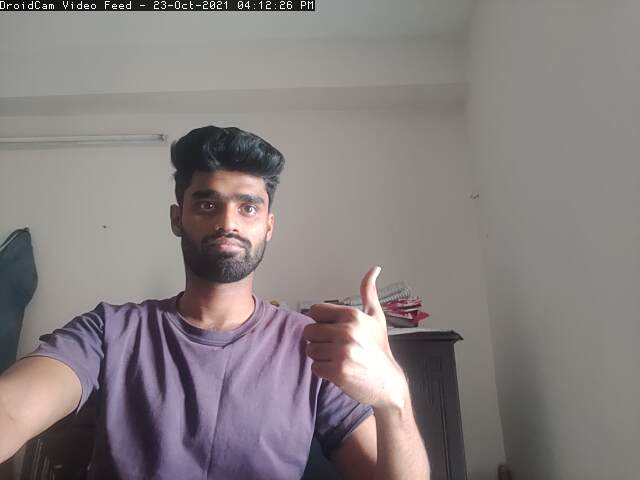ThumbsUp: (302, 263, 402, 406)
